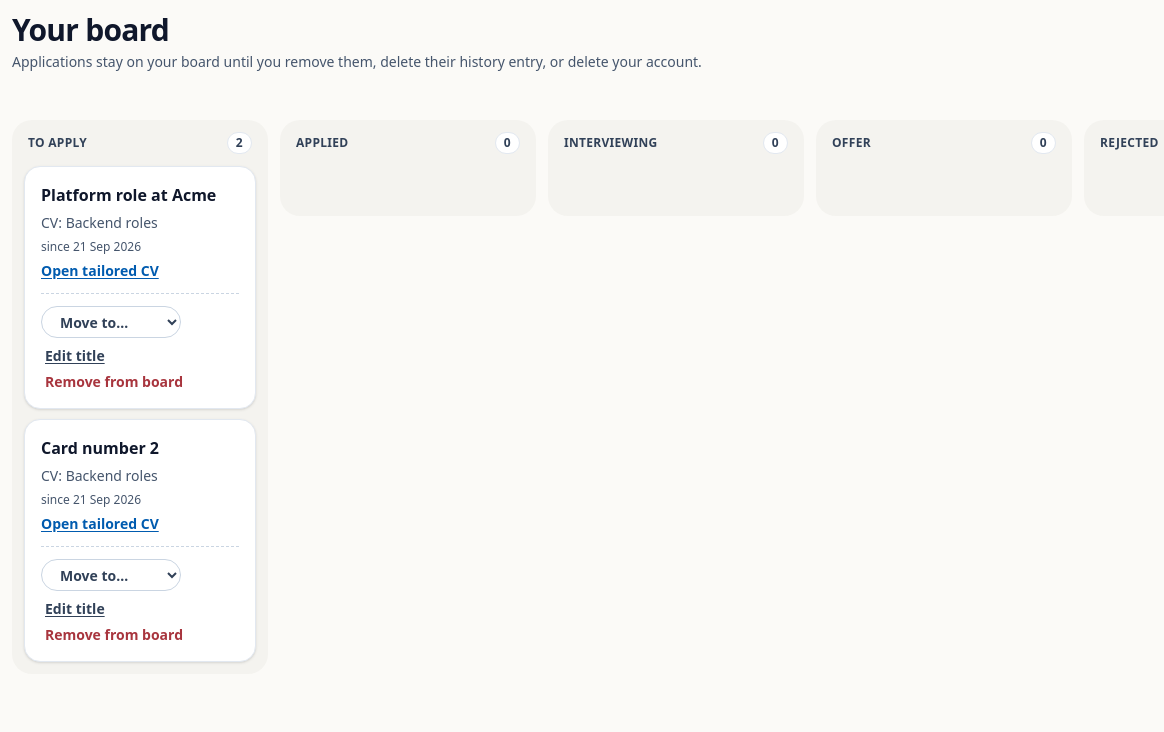
Test: A write on card A does not disturb card B's move in flight › retitling card A issues no board read until B settles, then exactly one; B never flickers back
Check: the text "Platform role at Acme" is shown, box [41,183,239,207]
Select "Offer" in the dropdown named "move to" below "Card number 2" at coordinates (111, 575), box [41,559,181,591]
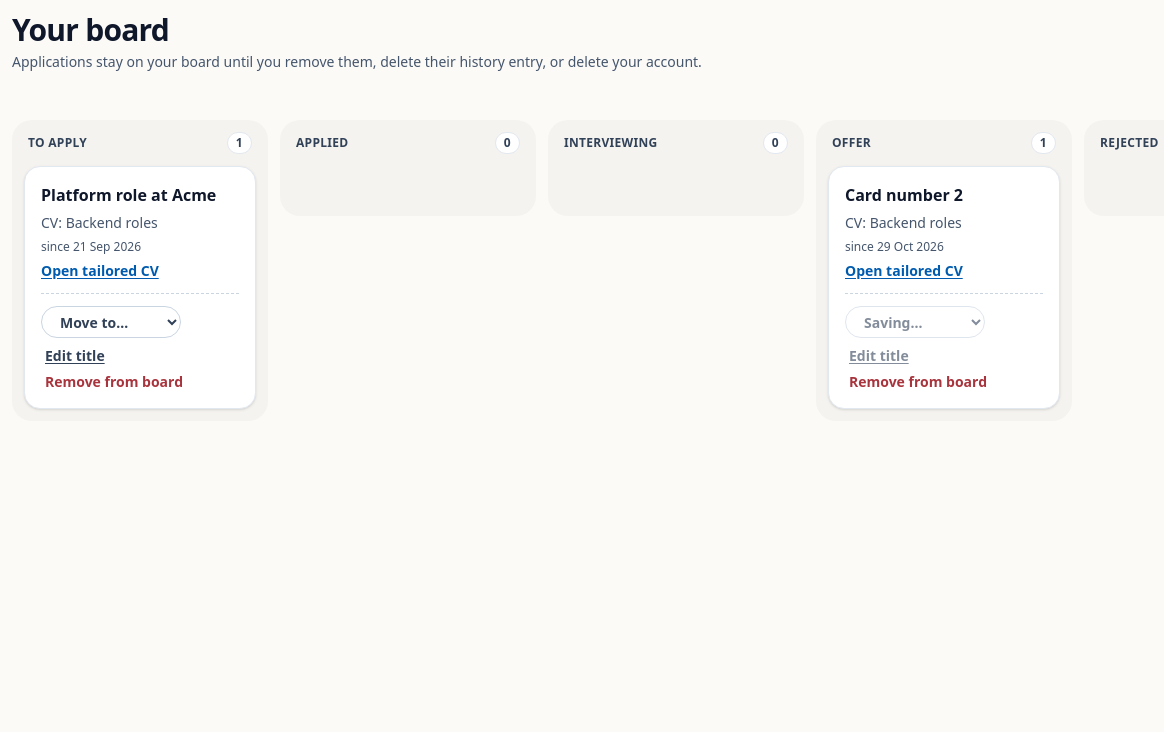
Click the button "Edit title" below "Platform role at Acme".
click(75, 356)  # box [41,346,109,366]
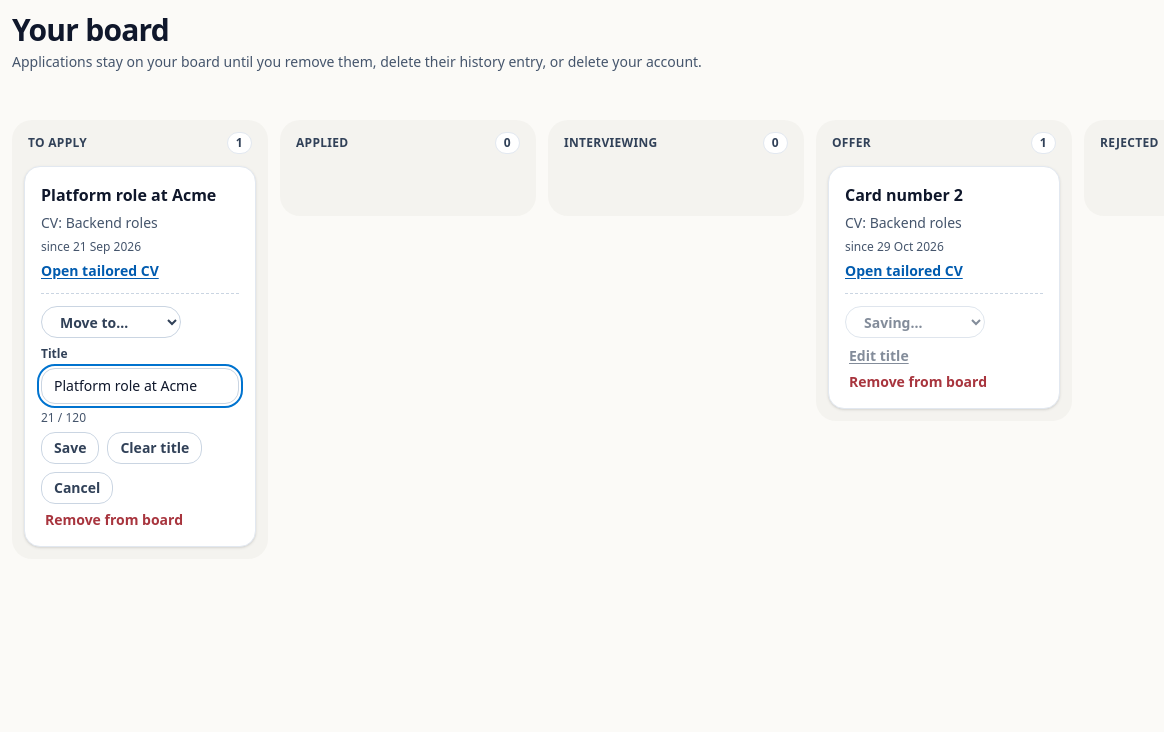
Replace the text in the field labelled "Title" with "Renamed role" at coordinates (140, 386), box [41,368,239,404]
Then press Enter
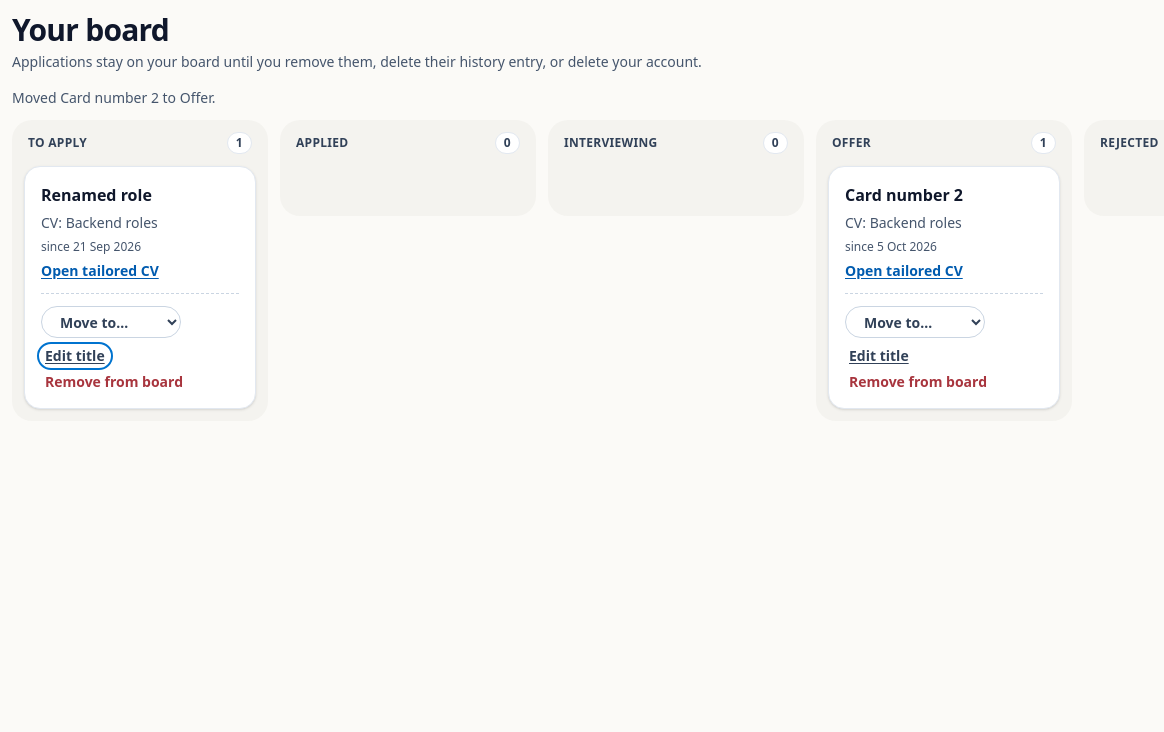
Check: the text "Renamed role" is shown, box [41,184,152,206]
